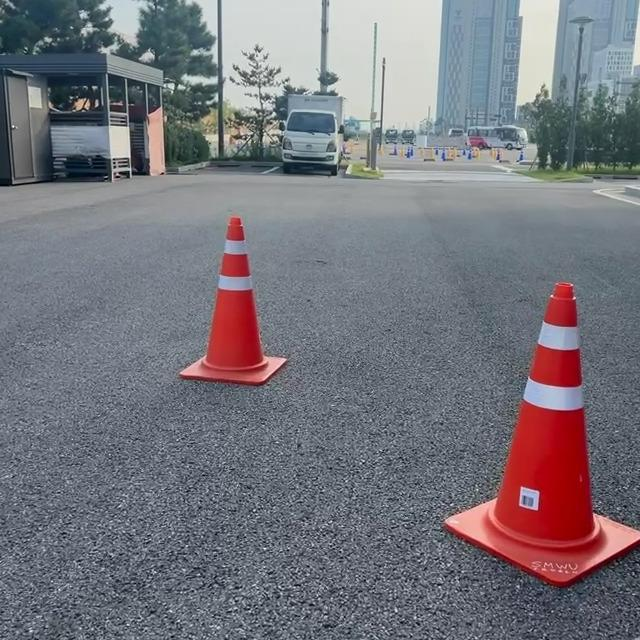fallen_object: (407, 262, 640, 558), (137, 199, 296, 395)
